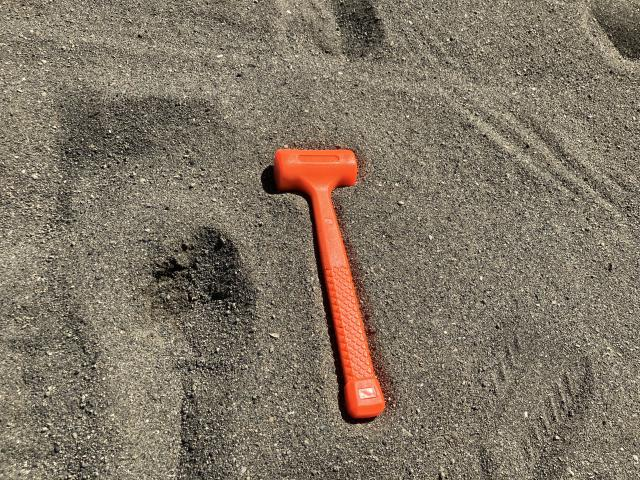hammer: (274, 148, 386, 419)
